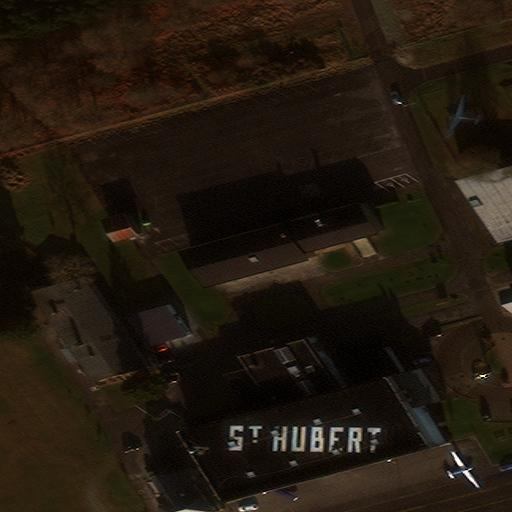Medium Civil Transport: (445, 93, 481, 136), (447, 450, 480, 488)
